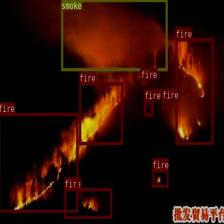fire: (0, 112, 78, 212), (175, 38, 213, 144), (78, 82, 122, 144), (64, 188, 112, 218), (152, 169, 168, 187), (144, 99, 153, 116), (162, 99, 169, 109), (140, 78, 148, 85)
smoke: (61, 0, 167, 71)
